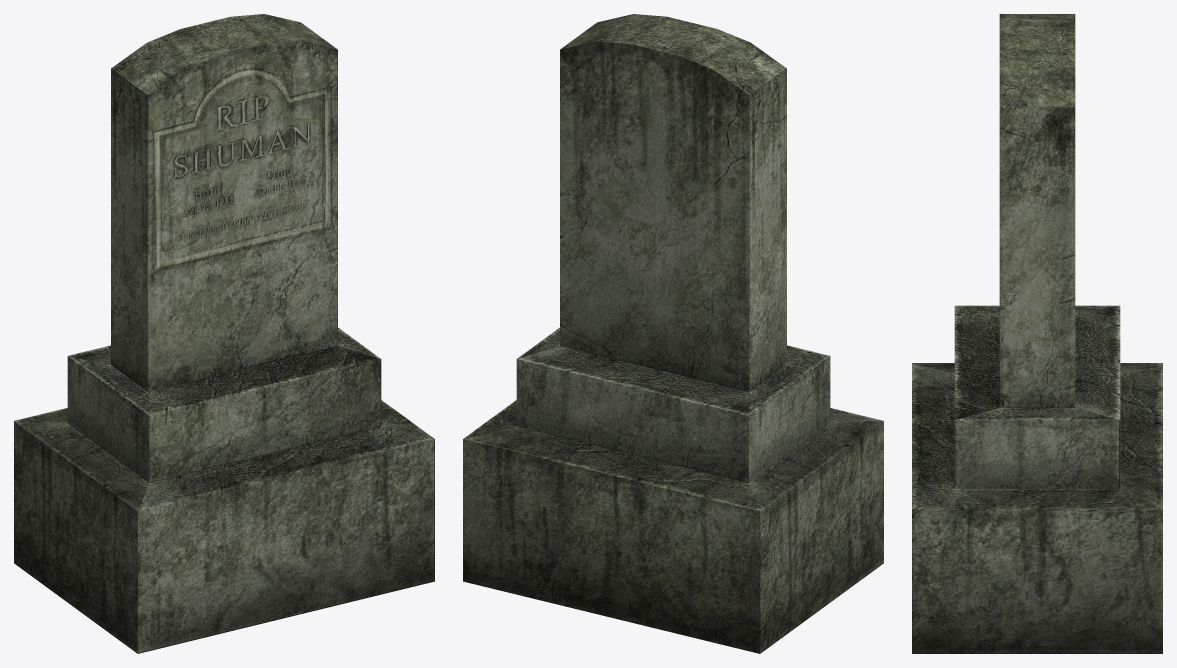
File: Gravestone01.dae
3 views of the same model, side by side, from view 1: azimuth 30°, elevation 25°; view 2: azimuth 150°, elevation 25°; view 3: azimuth 270°, elevation 25° (orthographic).
Visible parts, largest first — view 1: Gravestone01; view 2: Gravestone01; view 3: Gravestone01.
Part boxes in pixels (<box>): Gravestone01: <box>14,14,434,653</box>; Gravestone01: <box>463,14,883,653</box>; Gravestone01: <box>912,14,1162,653</box>.
Size of the model in its own units: 1.12 by 0.8066 by 1.93.
